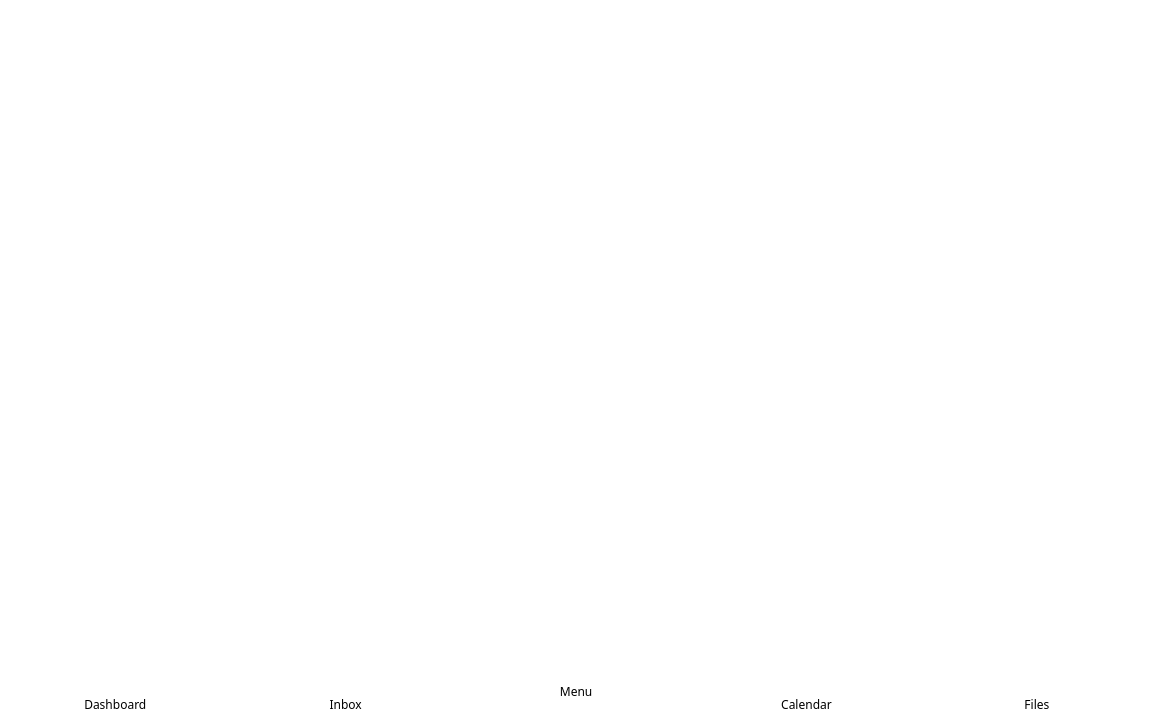
Scenario: TBottomNav › renders all menuItems in the sheet list
The width and height of the screenshot is (1152, 720).
Step 1. Click the button with class "t-bottom-nav__slot--center" → point(576, 692), box [461,664,691,719]
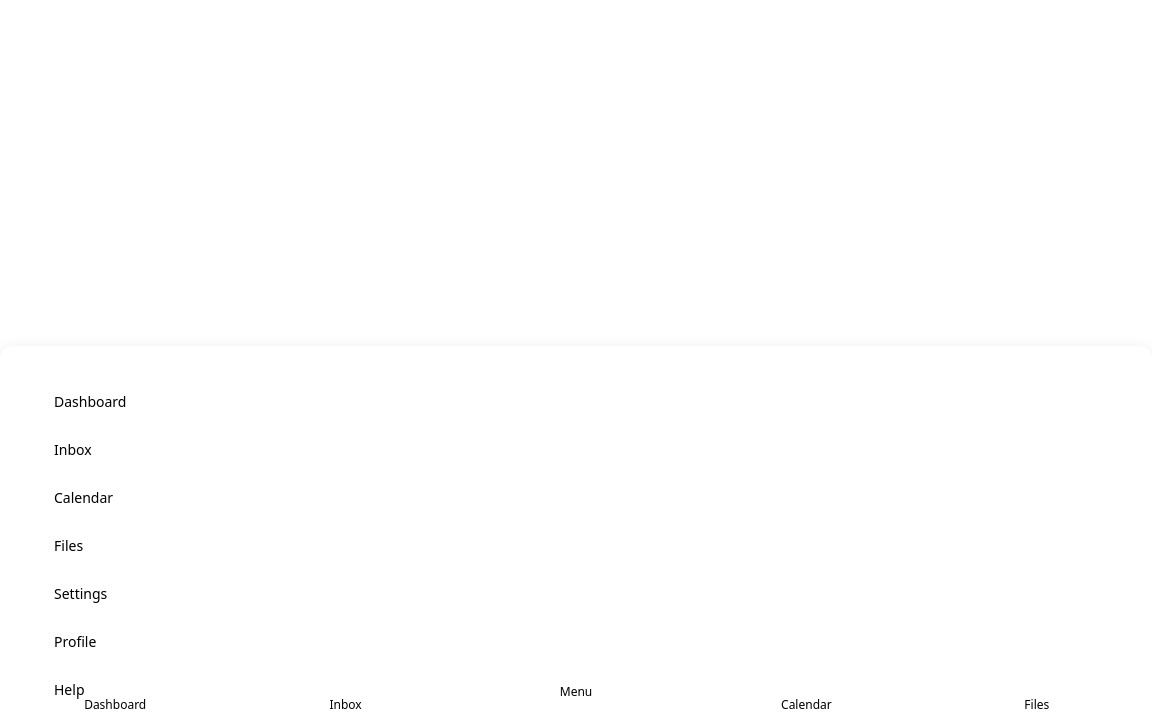
Now the number of links with class "t-bottom-nav__list-item" is 7
Now the link with class "t-bottom-nav__list-item" reads "Dashboard", box [54,392,126,410]
Now the link with class "t-bottom-nav__list-item" reads "Help", box [54,680,84,698]
